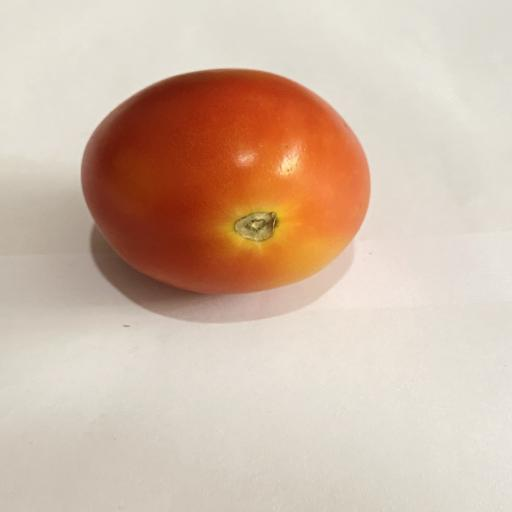ripe: (81, 69, 370, 294)
